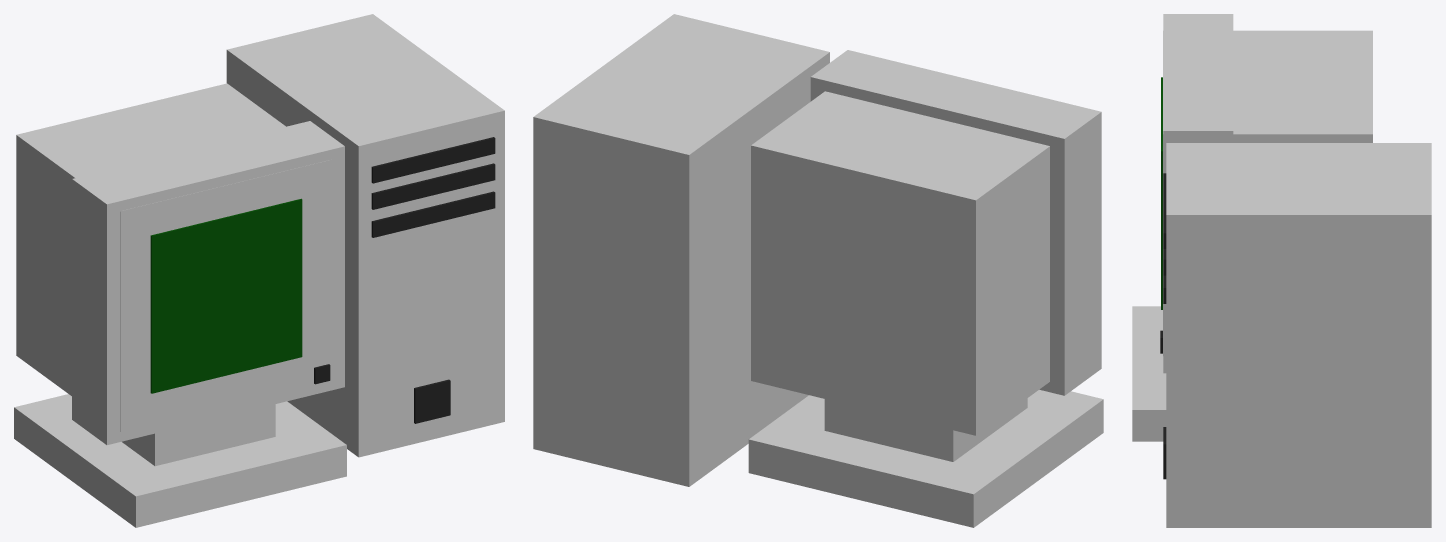
The model's file is comp2.fbx.
3 renders of one model, left to right at view 1: azimuth 30°, elevation 25°; view 2: azimuth 150°, elevation 25°; view 3: azimuth 270°, elevation 25°, orthographic. The views are drawn at different scales.
Visible parts, largest first — view 1: Объект_Куб_2, Объект_Куб_2_2, Объект_Куб_4, Объект_Куб_3_2, Объект_Куб_2_3, Объект_Куб_1_2, Объект_Куб, Объект_Куб_6, Объект_Куб_1, Объект_Куб_3; view 2: Объект_Куб_2, Объект_Куб_2_2, Объект_Куб_4, Объект_Куб_2_3, Объект_Куб_1_2; view 3: Объект_Куб_2, Объект_Куб_2_2, Объект_Куб_4, Объект_Куб_2_3, Объект_Куб_3_2.
Part boxes in pixels (x1=…): Объект_Куб_2: x1=226, y1=14, x2=504, y2=457; Объект_Куб_2_2: x1=16, y1=83, x2=331, y2=431; Объект_Куб_4: x1=72, y1=121, x2=344, y2=444; Объект_Куб_3_2: x1=150, y1=198, x2=302, y2=393; Объект_Куб_2_3: x1=14, y1=394, x2=346, y2=527; Объект_Куб_1_2: x1=122, y1=404, x2=275, y2=466; Объект_Куб: x1=371, y1=163, x2=495, y2=209; Объект_Куб_6: x1=371, y1=137, x2=495, y2=183; Объект_Куб_1: x1=371, y1=191, x2=495, y2=237; Объект_Куб_3: x1=414, y1=379, x2=450, y2=423; Объект_Куб_2: x1=533, y1=14, x2=829, y2=486; Объект_Куб_2_2: x1=751, y1=91, x2=1049, y2=435; Объект_Куб_4: x1=810, y1=50, x2=1101, y2=395; Объект_Куб_2_3: x1=748, y1=389, x2=1103, y2=527; Объект_Куб_1_2: x1=824, y1=398, x2=1027, y2=461; Объект_Куб_2: x1=1166, y1=143, x2=1431, y2=527; Объект_Куб_2_2: x1=1163, y1=30, x2=1372, y2=355; Объект_Куб_4: x1=1163, y1=14, x2=1233, y2=373; Объект_Куб_2_3: x1=1132, y1=306, x2=1166, y2=441; Объект_Куб_3_2: x1=1161, y1=77, x2=1162, y2=309.
Size of the model in its own units: 1325 by 1002 by 855.
